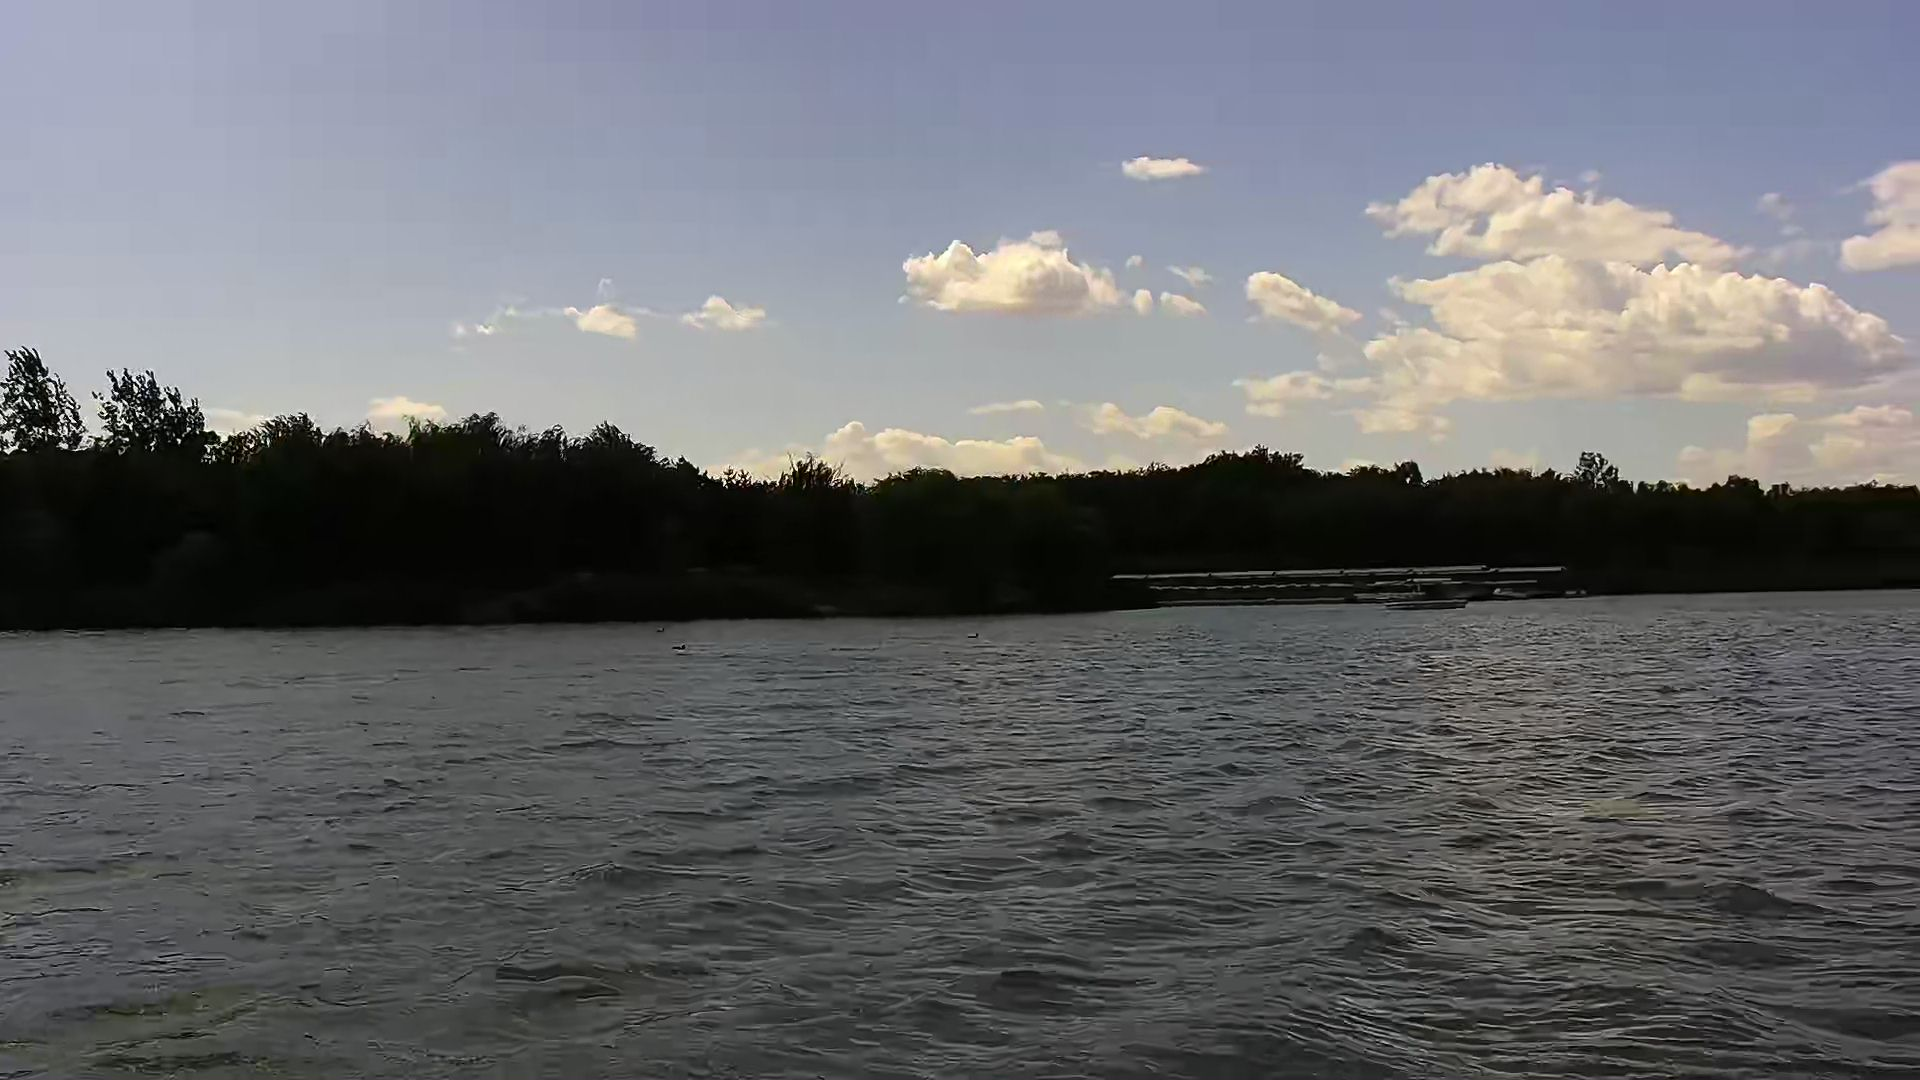boat: (1385, 574, 1476, 613)
harbor: (1106, 567, 1573, 603)
